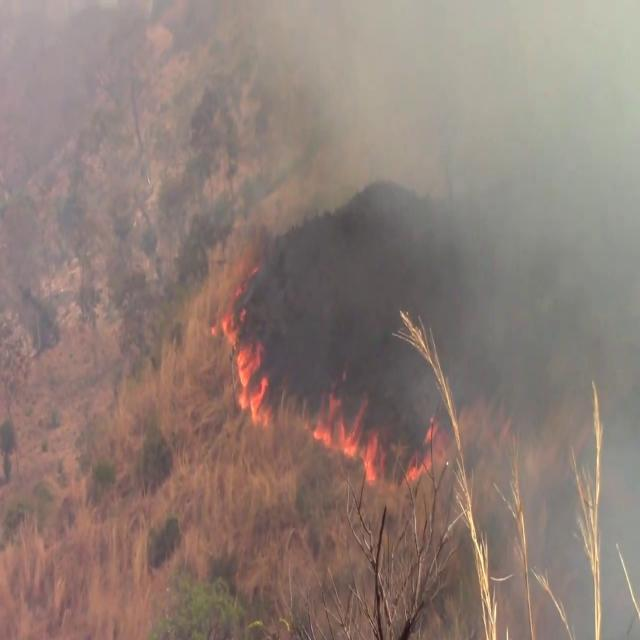Fire: (308, 383, 384, 477), (222, 300, 272, 426)
Smoke: (266, 1, 640, 590)
